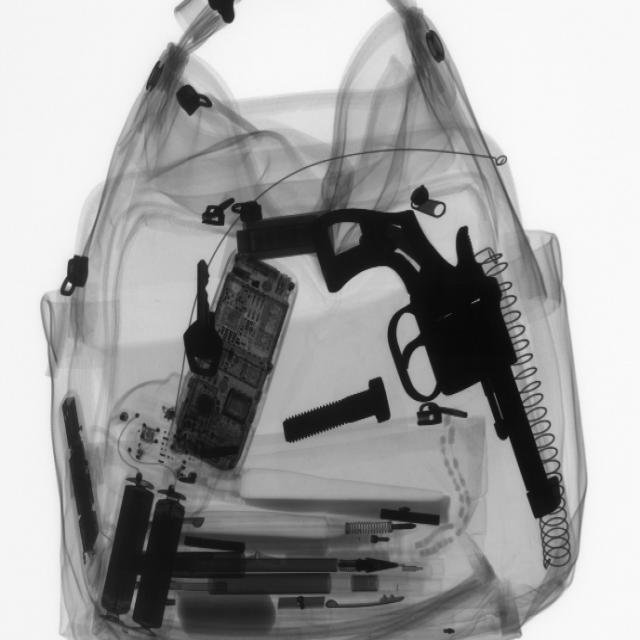GUN: (303, 207, 567, 511)
